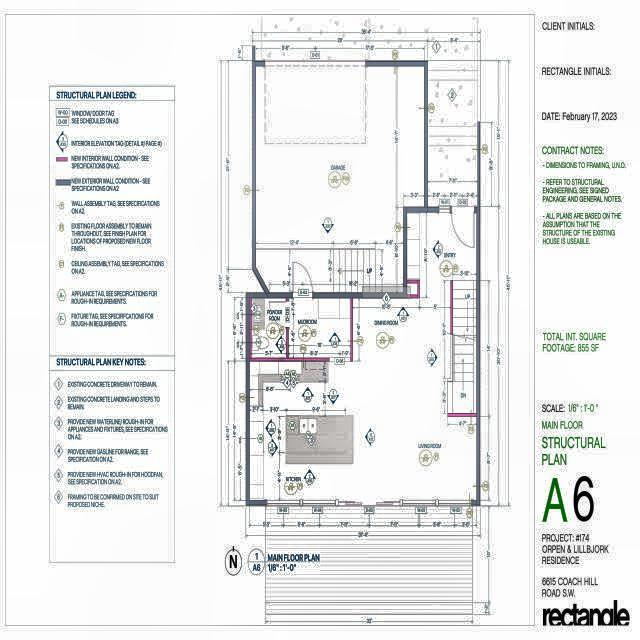room: (289, 298, 351, 358), (428, 146, 477, 207), (252, 298, 286, 358)
